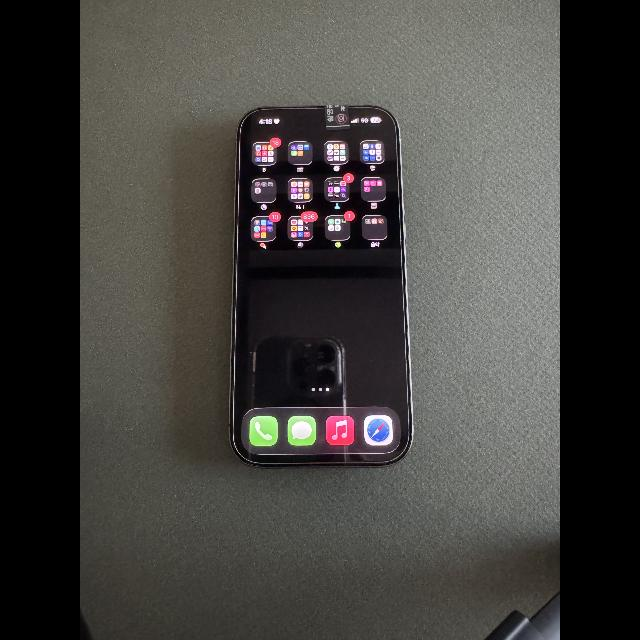phone: (229, 105, 413, 468)
sticker: (326, 104, 350, 129)
